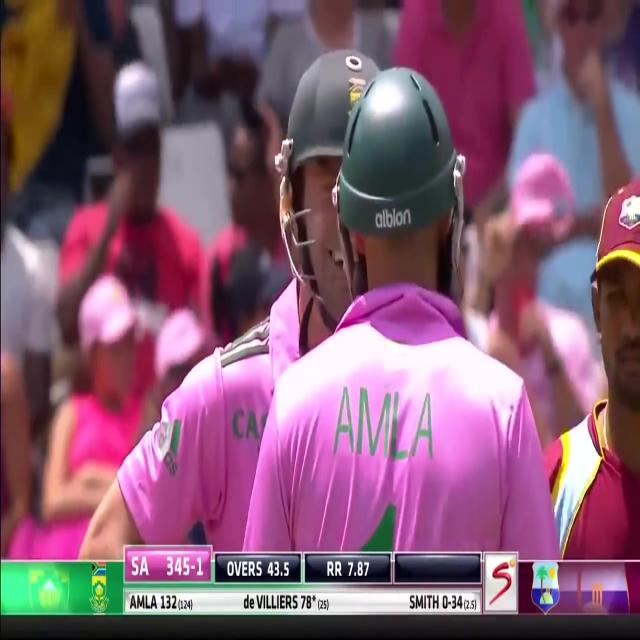Ball: (241, 61, 553, 556)
Fielder: (546, 53, 640, 561)
